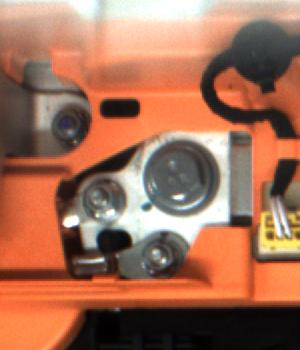nut_b: (143, 135, 218, 217)
